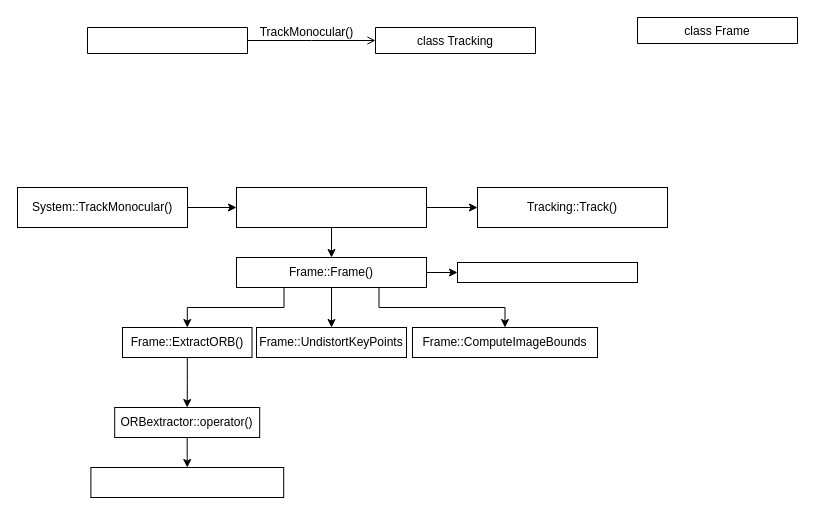
This 815x515 diagram has some shape labels left out. Each missing label, with the centre of its shape:
"class System" belongs at [167,40].
"Frame::AssignFeaturesToGrid()" belongs at [547,272].
"ORBextractor::ComputePyramid()" belongs at [187,482].
"Tracking::GrabImageMonocular()" belongs at [331,207].
